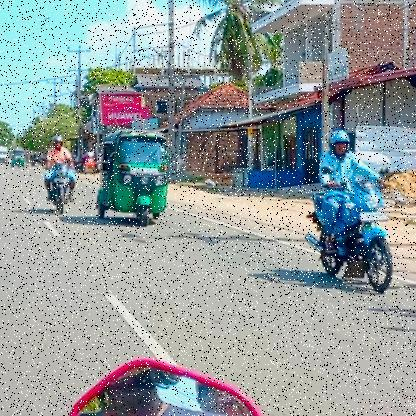motorcycle: (302, 180, 398, 294), (40, 162, 78, 219)
